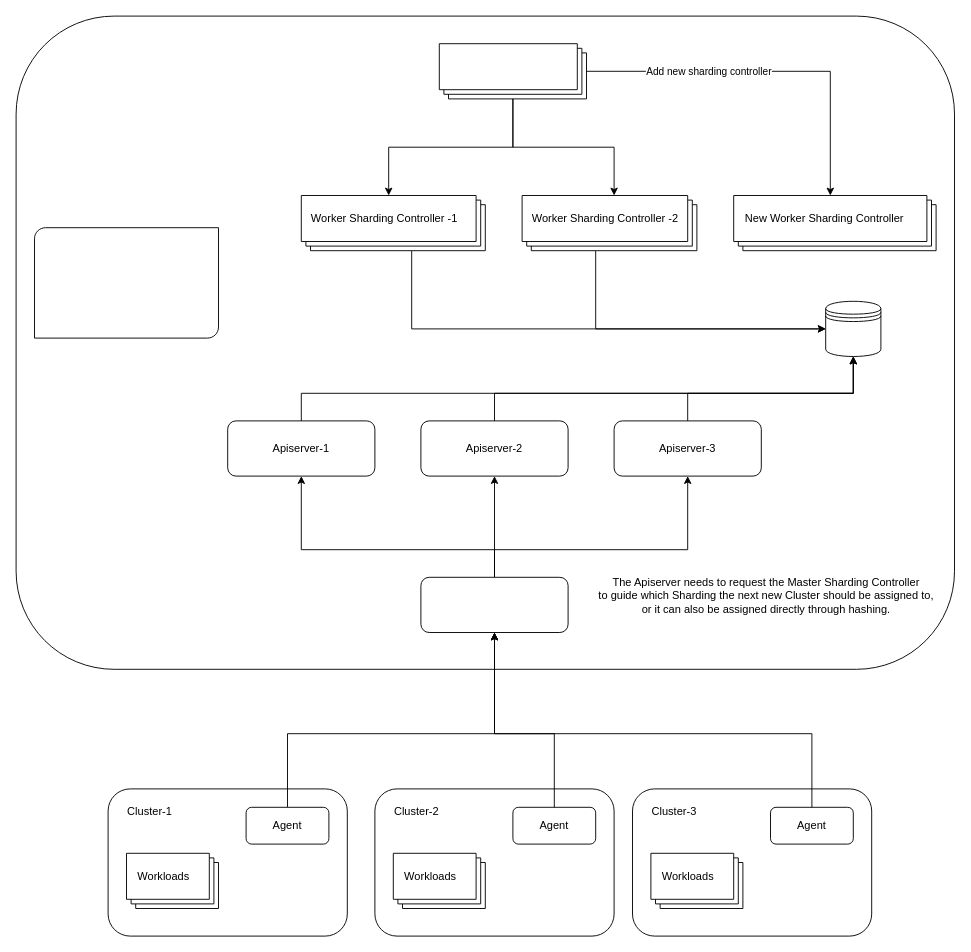
Image size: 971x952. Some labels were removed from this diagram. Each missing label, with the centre of its shape:
DB: the point at 853,328
Master Sharding Controller: the point at 512,71
Nginx Ingress Controller: the point at 494,604
Prometheus: the point at 126,282
